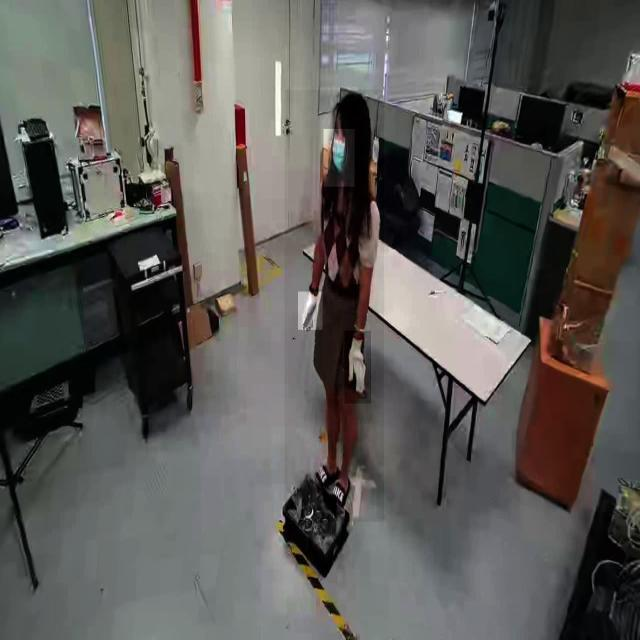face_mask: (324, 129, 354, 187)
hand_glove: (344, 330, 372, 404), (298, 292, 323, 331)
head_nohelmet: (334, 90, 370, 119)
person: (284, 90, 384, 522)
